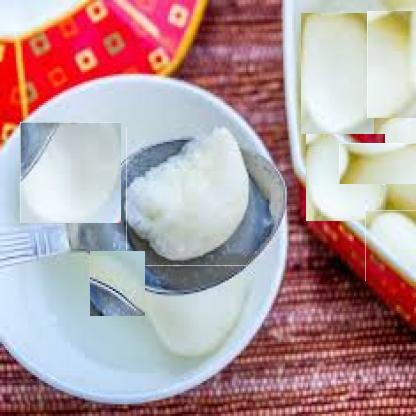rasgulla: (126, 127, 249, 261), (20, 122, 121, 223), (145, 265, 247, 356), (300, 12, 374, 134), (305, 134, 385, 221), (367, 10, 416, 119), (357, 125, 416, 201), (89, 250, 145, 316), (365, 210, 416, 281)
